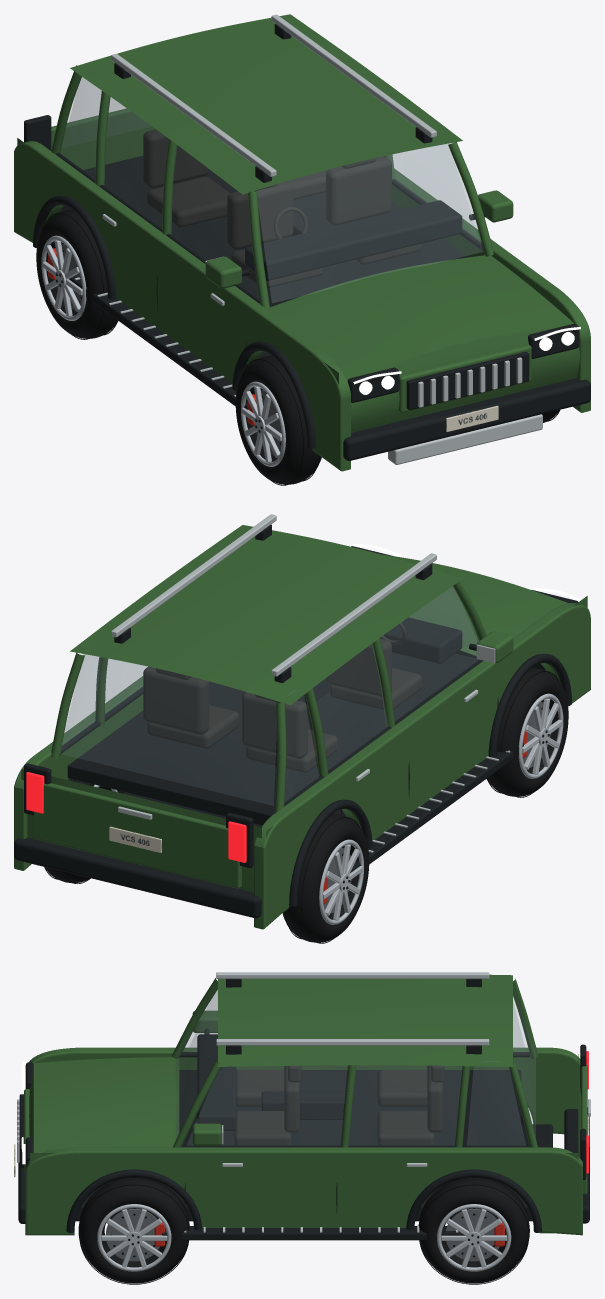
Rendered from trailhawk-x-detailed-v3.glb.
3 views of the same model, one above another, from view 1: azimuth 30°, elevation 25°; view 2: azimuth 150°, elevation 25°; view 3: azimuth 270°, elevation 25° (orthographic). The views are drawn at different scales.
Visible parts, largest first — view 1: Forest_Green_Clearcoat, Smoked_Automotive_Glass, Graphite_Trim, Charcoal_Leather, Performance_Rubber (×2), Polished_Aluminium, Forged_Aluminium (×2), Projector_LED, Registration_Plate; view 2: Forest_Green_Clearcoat, Graphite_Trim, Smoked_Automotive_Glass, Charcoal_Leather, Performance_Rubber (×2), Forged_Aluminium (×2), Polished_Aluminium, Rear_LED, Registration_Plate; view 3: Forest_Green_Clearcoat, Smoked_Automotive_Glass, Graphite_Trim, Performance_Rubber (×2), Charcoal_Leather, Forged_Aluminium (×2), Polished_Aluminium, Ventilated_Brake_Disc (×2), Tire_Grooves (×2).
Part boxes in pixels (x1,y1,x2,y2): Forest_Green_Clearcoat: [14, 14, 590, 471]; Smoked_Automotive_Glass: [60, 23, 483, 302]; Graphite_Trim: [24, 24, 590, 460]; Charcoal_Leather: [143, 129, 421, 288]; Performance_Rubber (×2): [36, 209, 321, 484]; Polished_Aluminium: [74, 14, 542, 464]; Forged_Aluminium (×2): [41, 235, 285, 466]; Projector_LED: [353, 327, 580, 394]; Registration_Plate: [446, 405, 498, 431]; Forest_Green_Clearcoat: [14, 525, 590, 929]; Graphite_Trim: [14, 524, 578, 918]; Smoked_Automotive_Glass: [60, 586, 478, 805]; Charcoal_Leather: [143, 622, 421, 772]; Performance_Rubber (×2): [282, 667, 568, 942]; Forged_Aluminium (×2): [319, 693, 563, 924]; Polished_Aluminium: [111, 514, 510, 852]; Rear_LED: [26, 772, 246, 862]; Registration_Plate: [109, 826, 161, 852]; Forest_Green_Clearcoat: [24, 974, 587, 1235]; Smoked_Automotive_Glass: [176, 978, 535, 1145]; Graphite_Trim: [18, 978, 589, 1240]; Performance_Rubber (×2): [78, 1178, 529, 1283]; Charcoal_Leather: [234, 1065, 444, 1145]; Forged_Aluminium (×2): [97, 1204, 511, 1271]; Polished_Aluminium: [17, 972, 590, 1232]; Ventilated_Brake_Disc (×2): [105, 1209, 499, 1261]; Tire_Grooves (×2): [79, 1177, 529, 1284].
Size of the model in its own units: 2.38 by 2.04 by 4.76.
15 materials, 2 textured.
